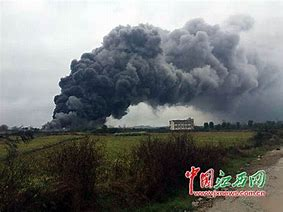smoke: (52, 17, 256, 127)
